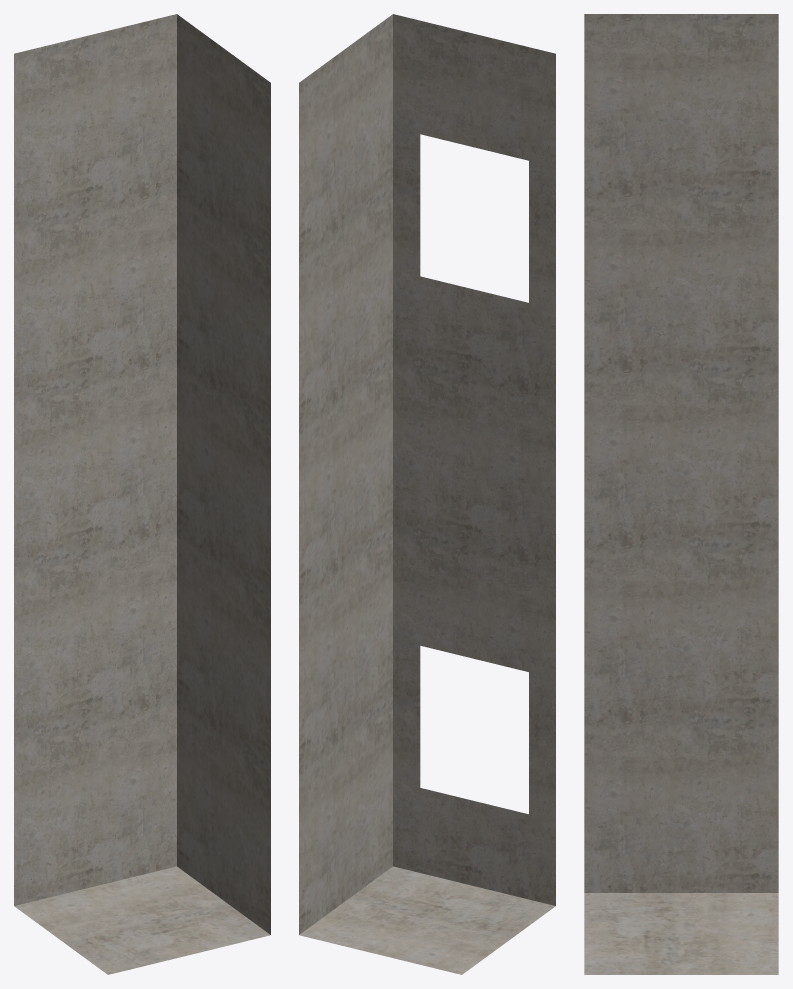
The model's file is nuclear_missile_shilo_elevator_shaft_b.glb.
The picture shows the model from 3 angles, left to right: view 1: azimuth 30°, elevation 25°; view 2: azimuth 150°, elevation 25°; view 3: azimuth 270°, elevation 25°; orthographic projection. The views are drawn at different scales.
Visible parts, largest first — view 1: nuclear_missile_shilo_elevator_shaft_b; view 2: nuclear_missile_shilo_elevator_shaft_b; view 3: nuclear_missile_shilo_elevator_shaft_b.
Boxes of the visible parts, x1=… form: nuclear_missile_shilo_elevator_shaft_b: x1=14, y1=14, x2=270, y2=974; nuclear_missile_shilo_elevator_shaft_b: x1=299, y1=14, x2=555, y2=974; nuclear_missile_shilo_elevator_shaft_b: x1=584, y1=14, x2=778, y2=974.
Bounding box in the file's own units: 3 × 15 × 3.
1 material, 1 textured.
